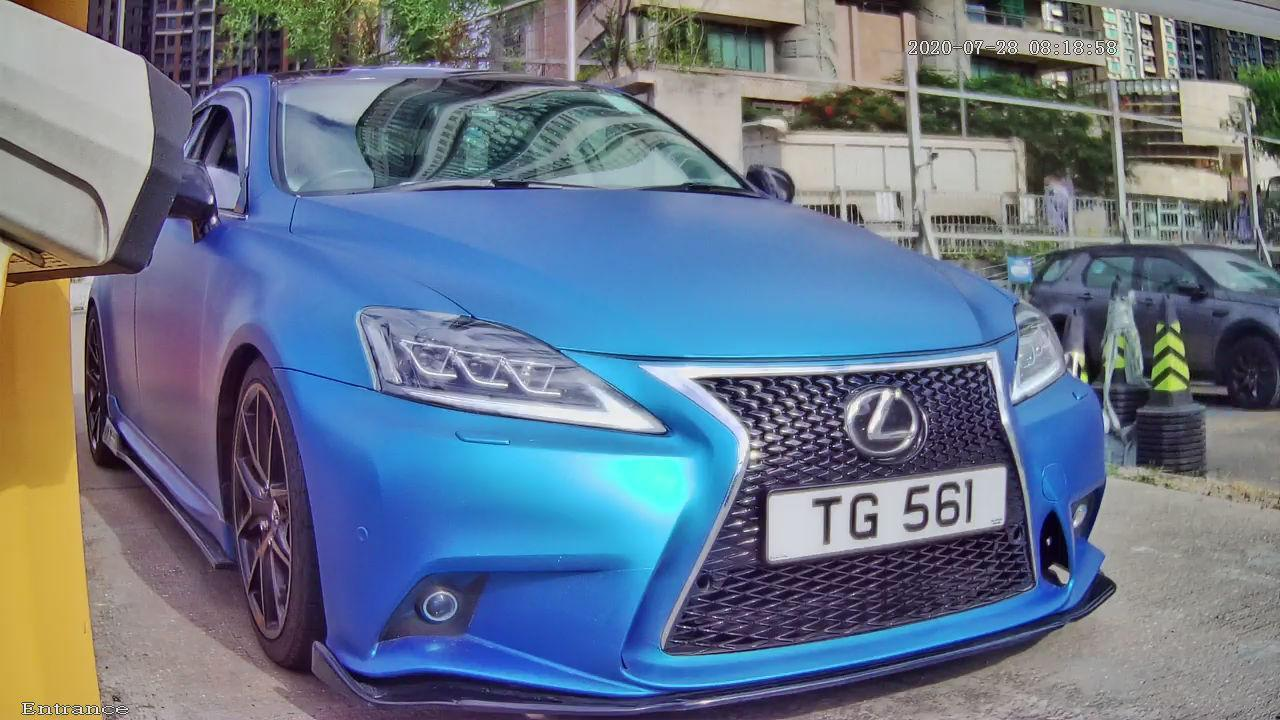privatecar: (90, 1, 1129, 709)
